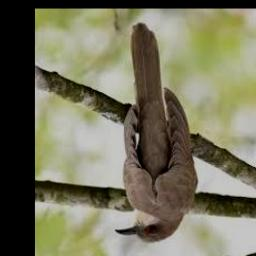Cuckoo: (115, 23, 197, 243)
